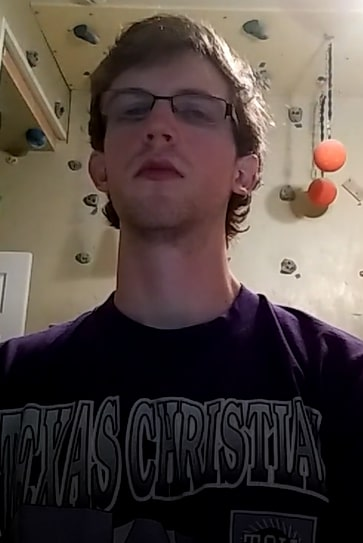Half Asleep: (99, 88, 226, 138)
